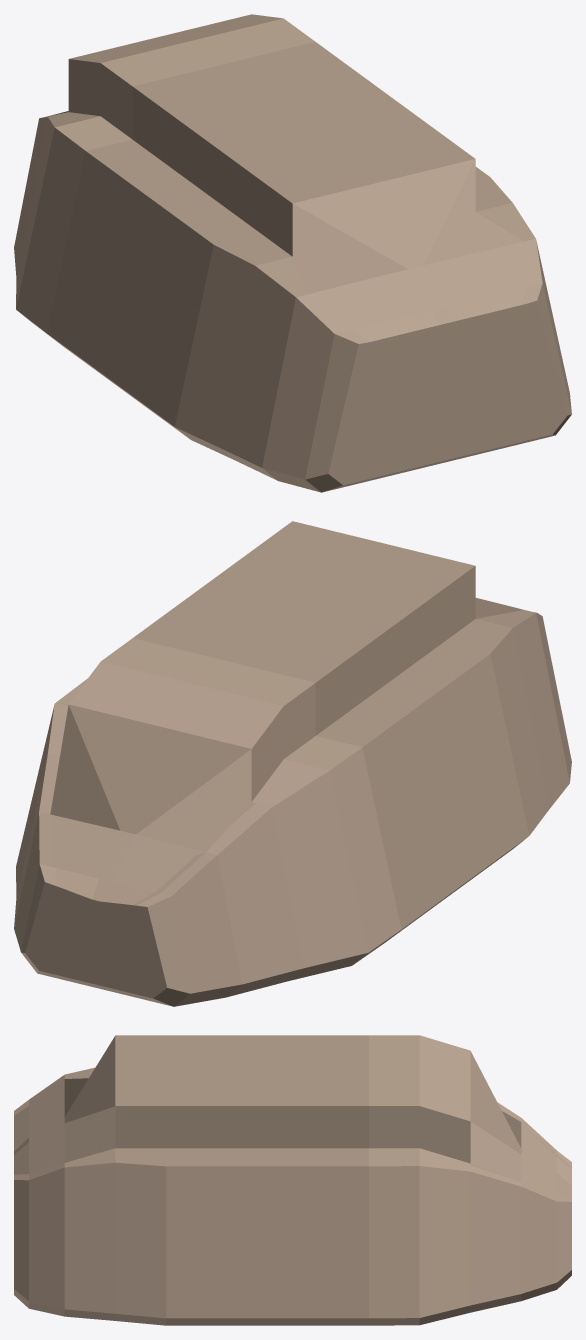
File: orrin_oddball_b.glb
3 views of the same model, one above another, from view 1: azimuth 30°, elevation 25°; view 2: azimuth 150°, elevation 25°; view 3: azimuth 270°, elevation 25° (orthographic). The views are drawn at different scales.
Parts seen in each view (by area): view 1: orrin_oddball_b; view 2: orrin_oddball_b; view 3: orrin_oddball_b.
Part boxes in pixels (left/top/right/bottom): orrin_oddball_b: left=14, top=14, right=571, bottom=492; orrin_oddball_b: left=14, top=521, right=571, bottom=1006; orrin_oddball_b: left=14, top=1035, right=571, bottom=1325.
Bounding box in the file's own units: 3.9 × 2.55 × 6.7.
